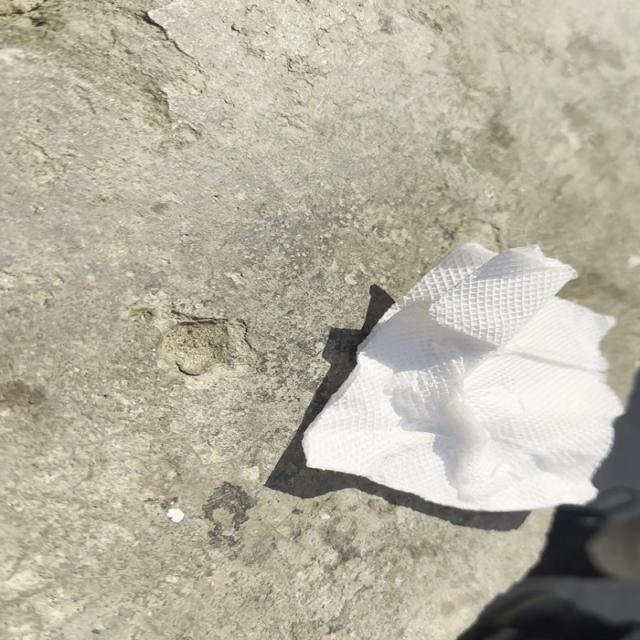tissue: (300, 237, 628, 509)
